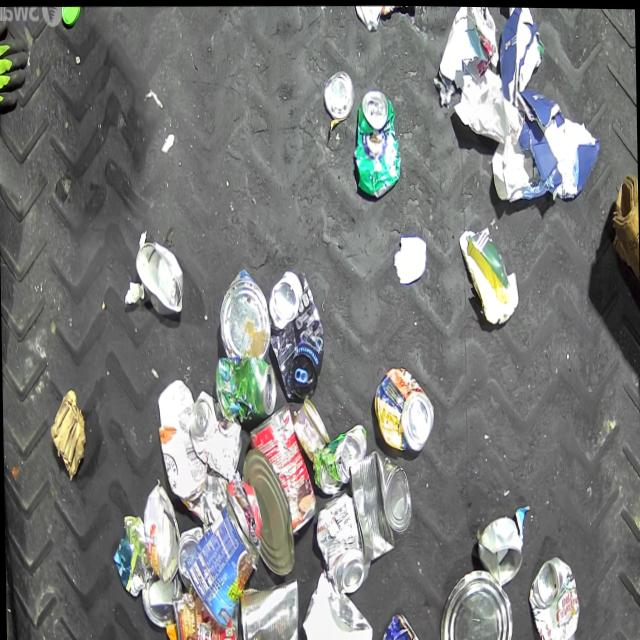can: (183, 499, 261, 629), (247, 403, 315, 534), (266, 267, 324, 398), (346, 448, 411, 563), (241, 447, 293, 575), (438, 564, 514, 640), (314, 490, 369, 592), (372, 364, 433, 451), (352, 86, 400, 196), (188, 387, 242, 480), (216, 266, 270, 357), (526, 552, 580, 640), (216, 353, 276, 421), (237, 575, 298, 640), (312, 421, 367, 493), (142, 481, 180, 585), (134, 234, 182, 313), (171, 591, 240, 640), (476, 516, 522, 586), (291, 396, 330, 460), (140, 571, 182, 628), (362, 608, 420, 640), (176, 524, 202, 589), (322, 67, 352, 119)
